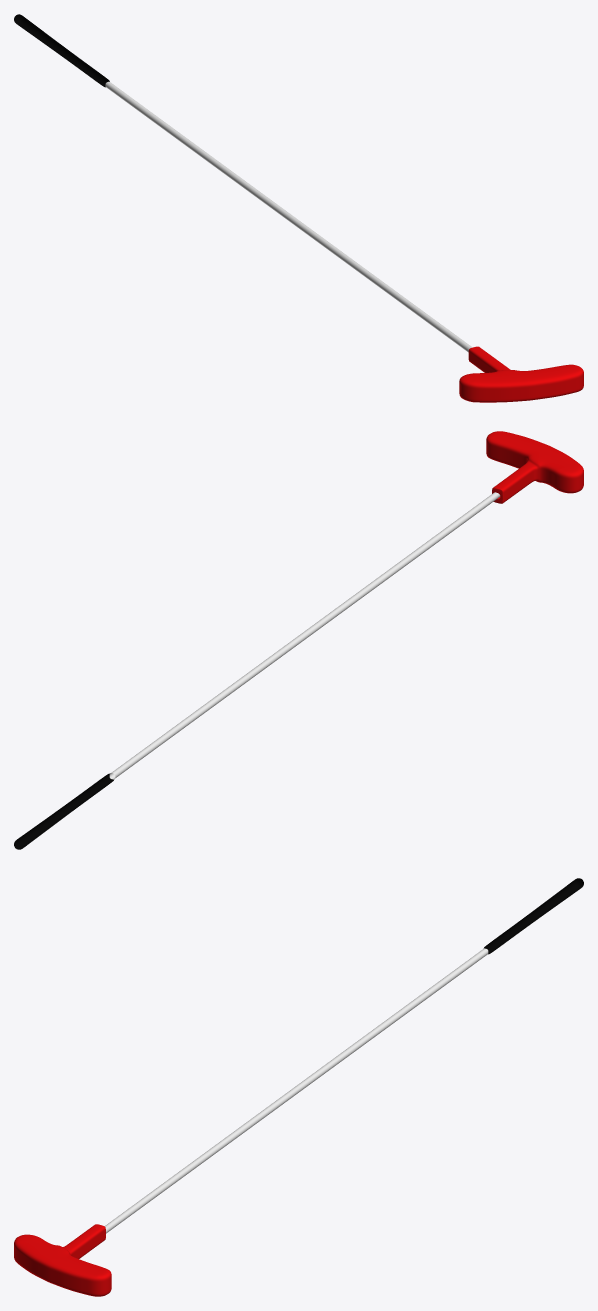
The model's file is Golfschlager_Patter_Griff.fbx.
The picture shows the model from 3 angles, top to bottom: view 1: azimuth 30°, elevation 25°; view 2: azimuth 150°, elevation 25°; view 3: azimuth 330°, elevation 25°; orthographic projection. The views are drawn at different scales.
Parts seen in each view (by area): view 1: Griff, Schläger; view 2: Griff, Schläger; view 3: Griff, Schläger.
Part boxes in pixels (box(x1,y1,x2,y2)): Griff: box(14, 14, 472, 352); Schläger: box(459, 346, 583, 402); Griff: box(14, 492, 500, 849); Schläger: box(486, 431, 583, 503); Griff: box(104, 878, 583, 1233); Schläger: box(14, 1224, 111, 1296).
Bounding box in the file's own units: 10.88 × 2 × 92.54.
